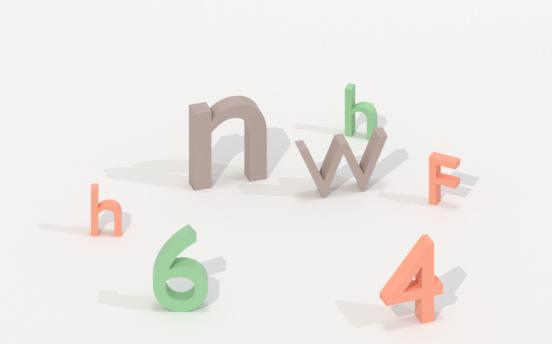4: (378, 229, 444, 328)
6: (152, 225, 209, 315)
F: (427, 149, 462, 209)
h: (343, 81, 380, 140), (90, 181, 125, 241)
n: (188, 93, 271, 192)
w: (296, 126, 389, 199)
